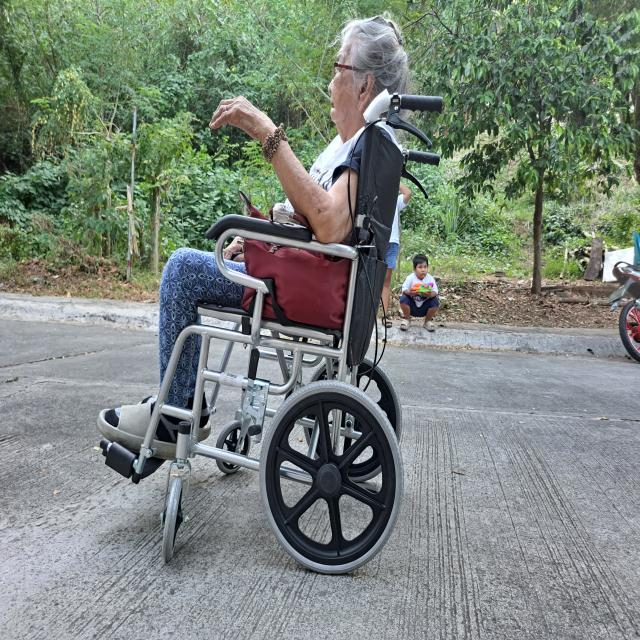wheelchairs: (93, 90, 451, 580)
